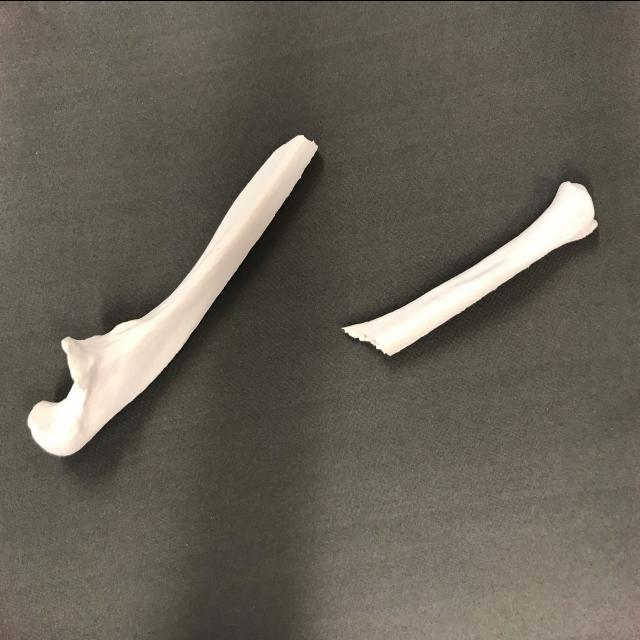bone: (22, 122, 320, 464), (342, 166, 608, 365)
